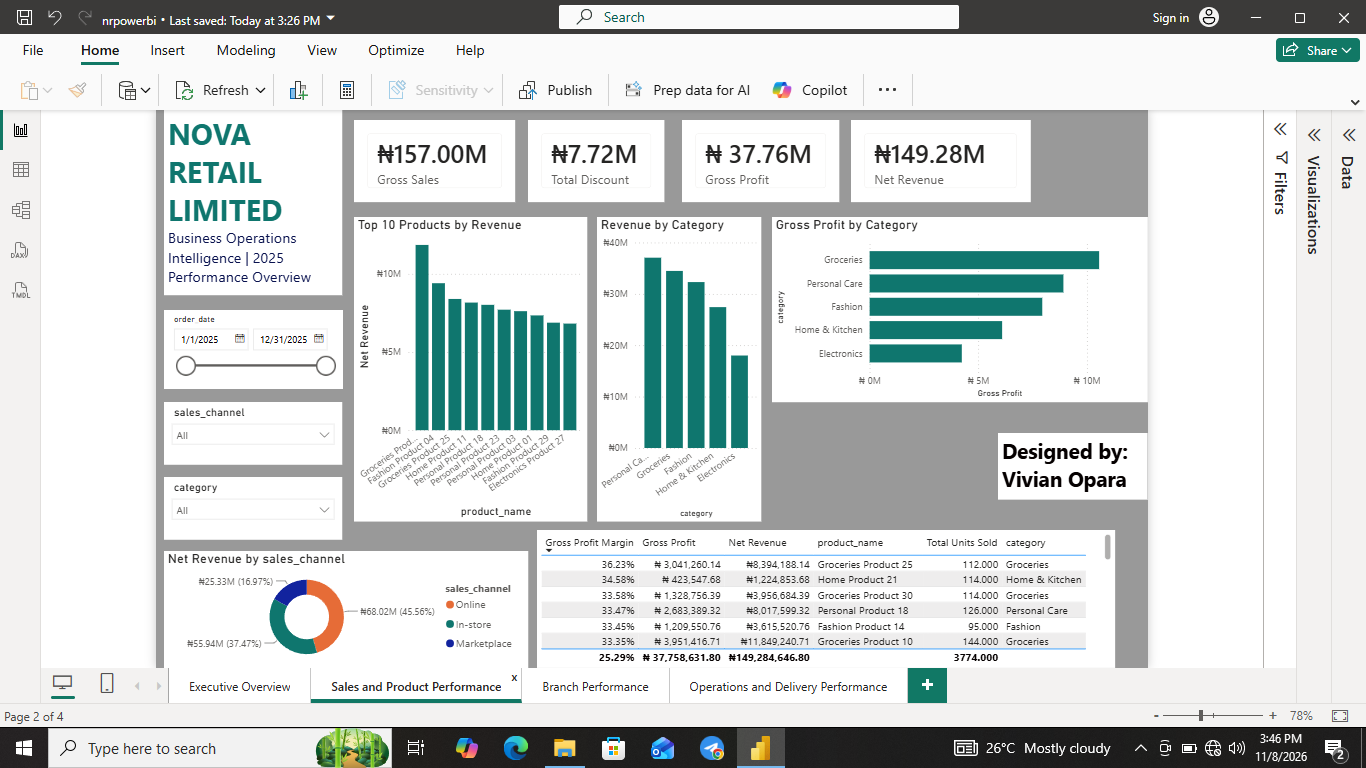

The dashboard page shown, as its layout file describes it:
{"tool":"powerbi","page":{"name":"Sales and Product Performance","canvas":[1280,720],"ordinal":1},"visuals":[{"type":"textbox","box":[10.1,0,230.1,238.5],"z":0},{"type":"slicer","fields":{"Values":["nrorderscsv.order_date"]},"box":[10.1,258.7,230.1,100.8],"z":1000},{"type":"slicer","fields":{"Values":["nrorderscsv.sales_channel"]},"box":[10.1,376.3,230.1,80.6],"z":2000},{"type":"slicer","fields":{"Values":["nrproductscsv.category"]},"box":[10.1,473.7,230.1,80.6],"z":3000},{"type":"cardVisual","fields":{"Data":["nrorderscsv.Gross Sales"]},"box":[255.3,13.4,208.3,105.8],"z":4000},{"type":"cardVisual","fields":{"Data":["nrorderscsv.Total Discount"]},"box":[480.4,13.4,176.4,105.8],"z":5000},{"type":"cardVisual","fields":{"Data":["nrorderscsv.Net Revenue"]},"box":[897,13.4,231.8,105.8],"z":6000},{"type":"cardVisual","fields":{"Data":["nrorderscsv.Gross Profit"]},"box":[678.6,13.4,203.3,105.8],"z":7000},{"type":"clusteredColumnChart","title":"Top 10 Products by Revenue","fields":{"Category":["nrproductscsv.product_name"],"Y":["nrorderscsv.Net Revenue"]},"box":[255.3,137.7,300.7,393.1],"z":8000},{"type":"clusteredColumnChart","title":"Revenue by Category","fields":{"Y":["nrorderscsv.Net Revenue"],"Category":["nrproductscsv.category"]},"box":[569.4,137.7,211.7,393.1],"z":9000},{"type":"clusteredBarChart","title":"Gross Profit by Category","fields":{"Category":["nrproductscsv.category"],"Y":["nrorderscsv.Gross Profit"]},"box":[794.5,137.7,485.5,238.5],"z":10000},{"type":"donutChart","fields":{"Category":["nrorderscsv.sales_channel"],"Y":["nrorderscsv.Net Revenue"]},"box":[10.1,569.4,470.3,151.2],"z":11000},{"type":"tableEx","fields":{"Values":["nrorderscsv.Gross Profit Margin","nrorderscsv.Gross Profit","nrorderscsv.Net Revenue","nrproductscsv.product_name","nrorderscsv.Total Units Sold","nrproductscsv.category"]},"box":[492.2,542.6,745.8,178.1],"z":12000},{"type":"textbox","box":[1086.8,416.6,193.2,85.7],"z":13000}]}

Visuals, with their boxes on the page's 1280x720 design canvas (x1, y1, x2, y2). These are canvas units, not pixel positions in the 1366x768 screenshot, which may show the page scaled, cropped or inside an application window:
textbox: 10:0:240:238
slicer - nrorderscsv.order_date: 10:259:240:360
slicer - nrorderscsv.sales_channel: 10:376:240:457
slicer - nrproductscsv.category: 10:474:240:554
cardVisual - nrorderscsv.Gross Sales: 255:13:464:119
cardVisual - nrorderscsv.Total Discount: 480:13:657:119
cardVisual - nrorderscsv.Net Revenue: 897:13:1129:119
cardVisual - nrorderscsv.Gross Profit: 679:13:882:119
"Top 10 Products by Revenue" clusteredColumnChart: 255:138:556:531
"Revenue by Category" clusteredColumnChart: 569:138:781:531
"Gross Profit by Category" clusteredBarChart: 794:138:1280:376
donutChart - nrorderscsv.sales_channel x nrorderscsv.Net Revenue: 10:569:480:721
tableEx - nrorderscsv.Gross Profit Margin x nrorderscsv.Gross Profit: 492:543:1238:721
textbox: 1087:417:1280:502
